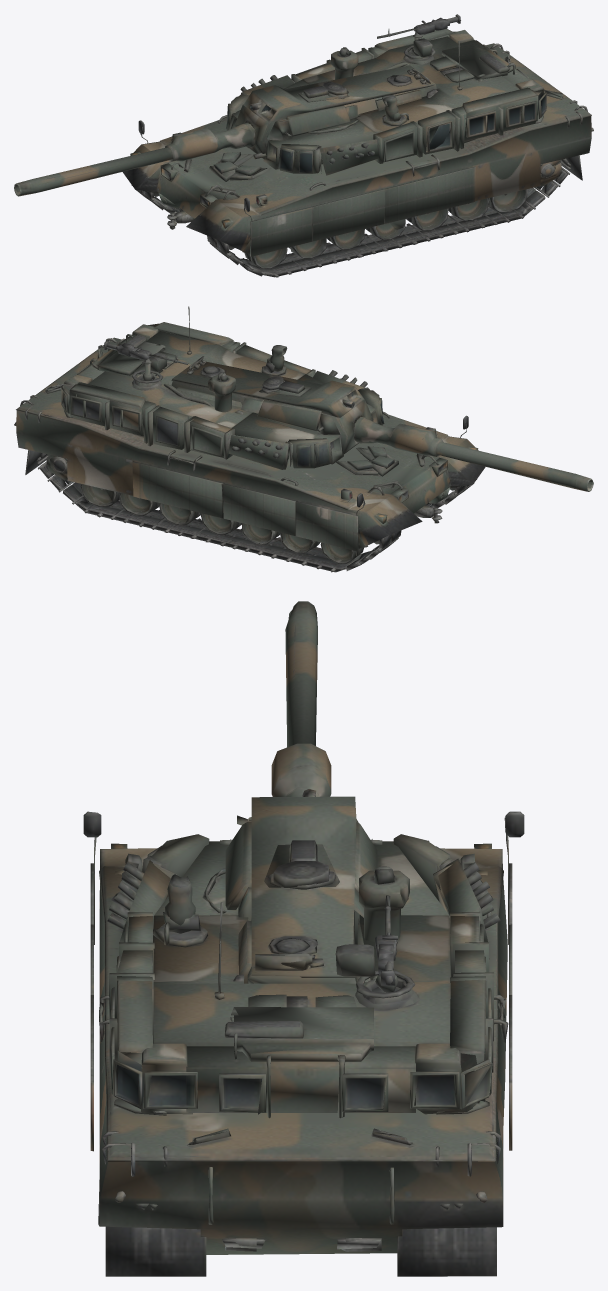
Rendered from Meshy_AI_Iron_Sentinel_1024100517_texture.fbx.
The picture shows the model from 3 angles, top to bottom: view 1: azimuth 30°, elevation 25°; view 2: azimuth 150°, elevation 25°; view 3: azimuth 270°, elevation 25°; orthographic projection. The views are drawn at different scales.
Visible parts, largest first — view 1: Mesh_0; view 2: Mesh_0; view 3: Mesh_0.
Part boxes in pixels (box(x1,y1,x2,y2)): Mesh_0: box(14, 14, 593, 277); Mesh_0: box(14, 306, 593, 572); Mesh_0: box(83, 601, 524, 1276).
Size of the model in its own units: 95.36 by 28.61 by 34.23.
Materials: 1 (1 with a texture image).
